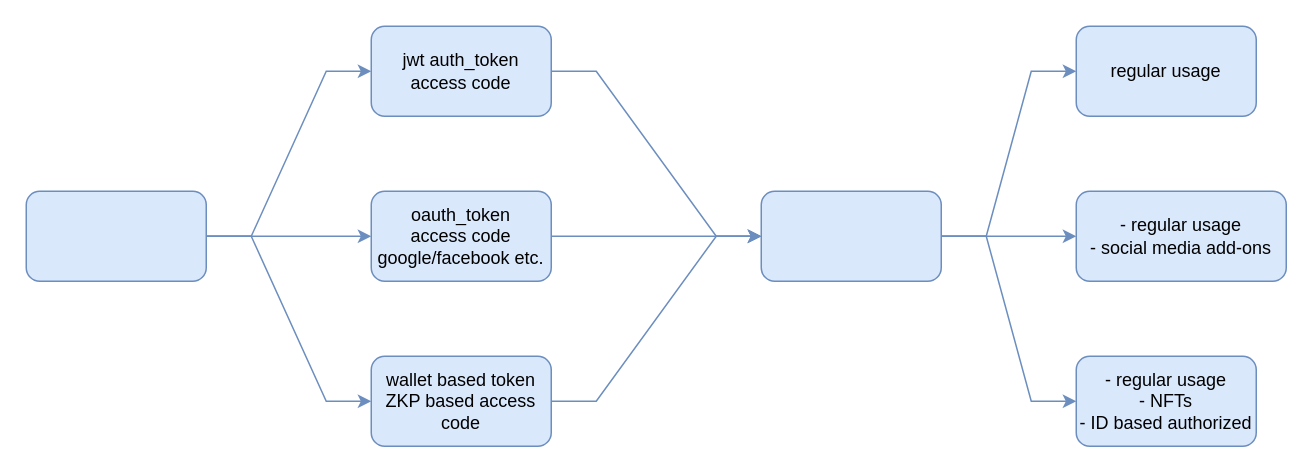
Some shapes in this 1313 by 473 pixel diagram are drawn without their labels. Here are the shapes that lost their labels. From the top down, the centre of each, then its label:
point (115, 235): user
point (850, 235): Role Based Access
